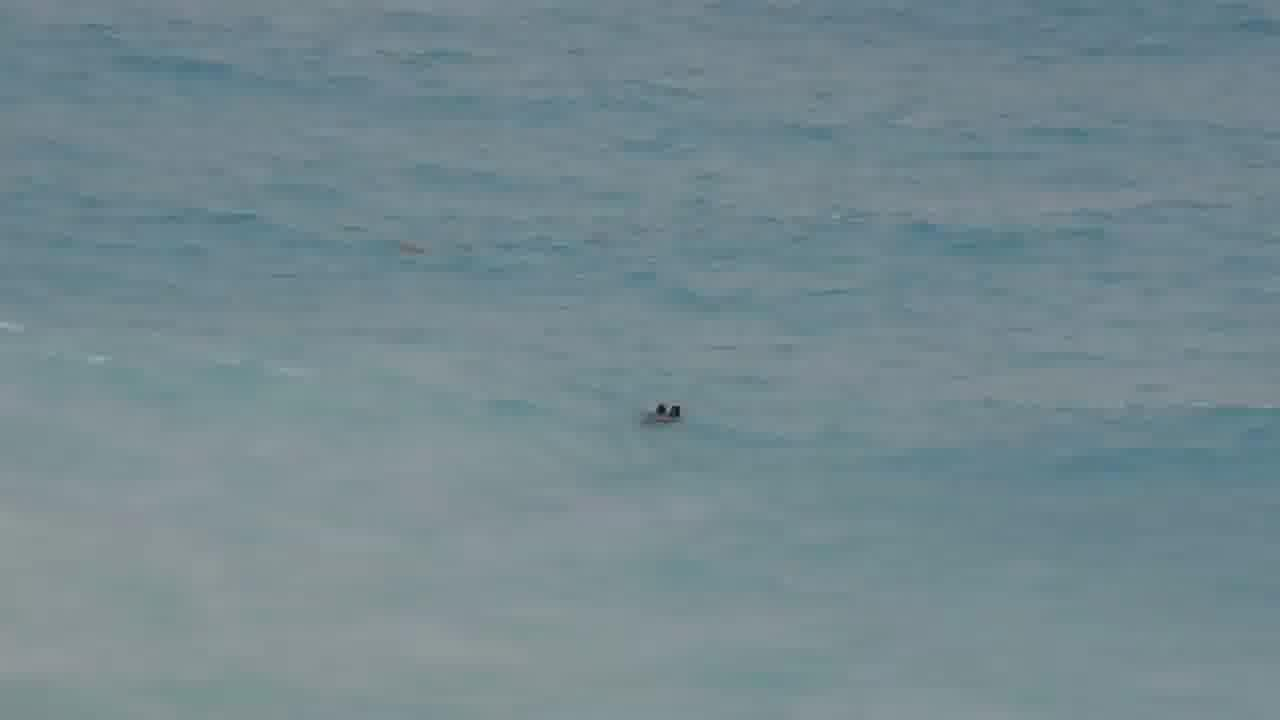swimmer: (638, 391, 699, 429)
